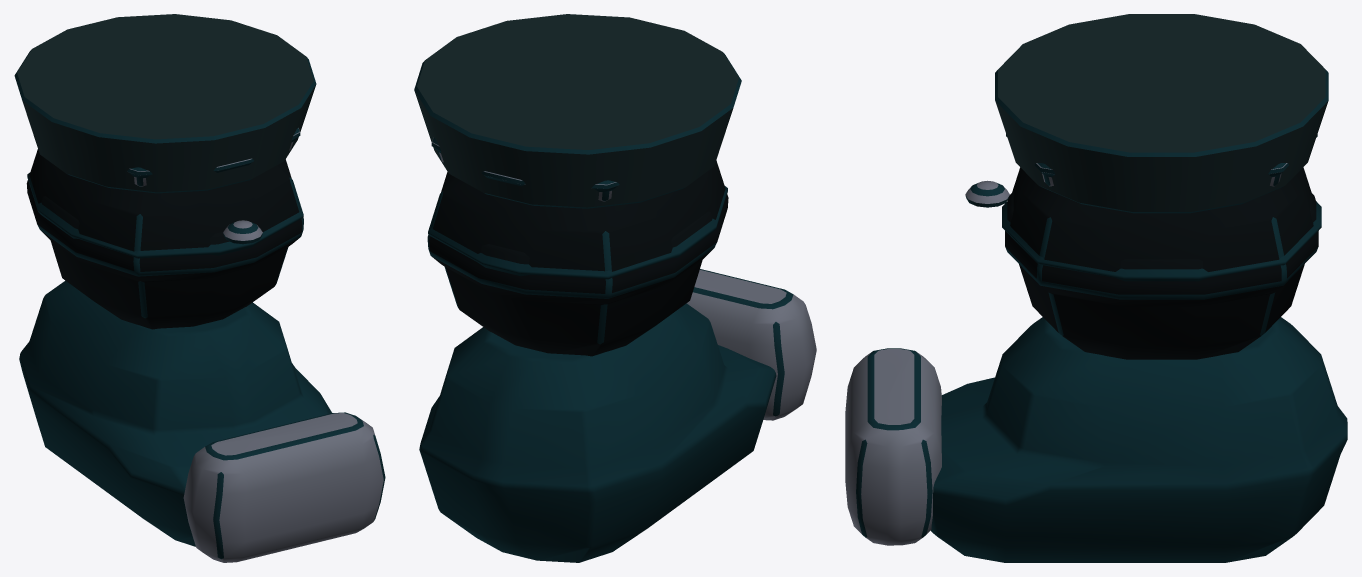
Rendered from Trama_BotaL.fbx.
3 renders of one model, left to right at view 1: azimuth 30°, elevation 25°; view 2: azimuth 150°, elevation 25°; view 3: azimuth 270°, elevation 25°, orthographic. The views are drawn at different scales.
Parts seen in each view (by area): view 1: Piece; view 2: Piece; view 3: Piece.
Boxes of the visible parts, x1=… form: Piece: x1=14, y1=14, x2=385, y2=562; Piece: x1=414, y1=14, x2=816, y2=562; Piece: x1=845, y1=14, x2=1347, y2=562.
Bounding box in the file's own units: 0.2144 × 0.3186 × 0.323.
